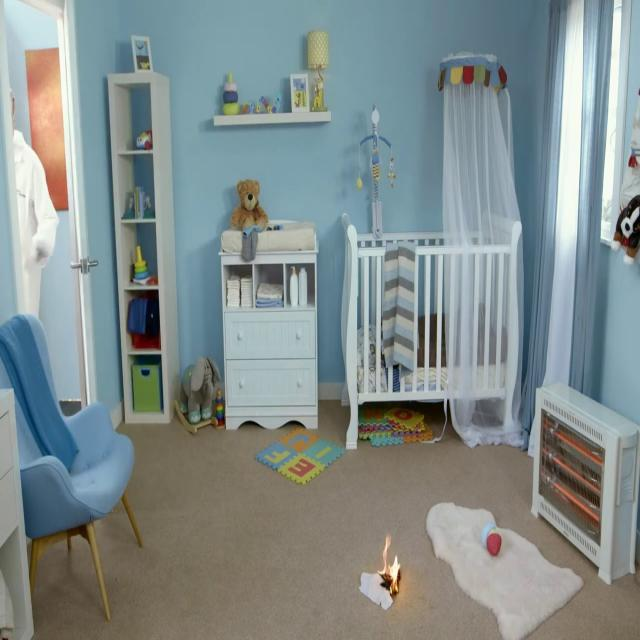Fire: (383, 540, 402, 592)
